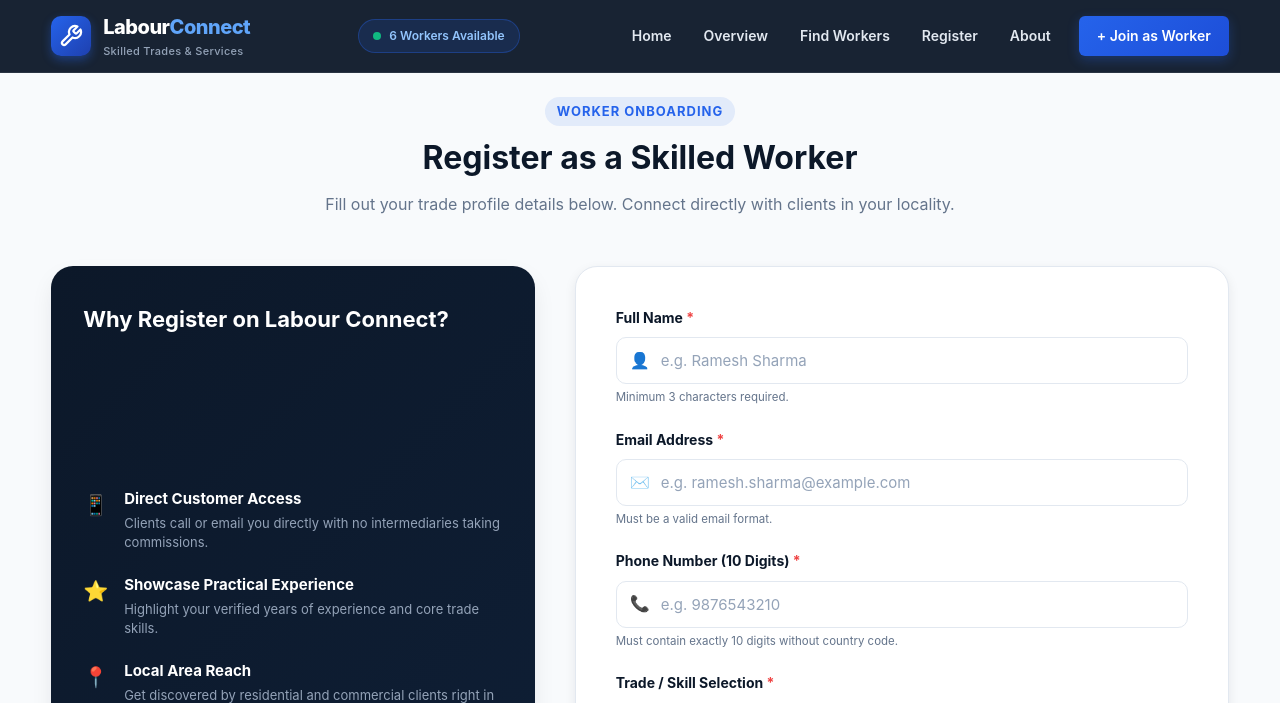
Test: Labour Connect Web Application › clears form when clicking reset button
(page scrolled)
Type "Test Worker" into the field labelled "Full Name *" at coordinates (902, 361), box [616,337,1188,384]
(page scrolled)
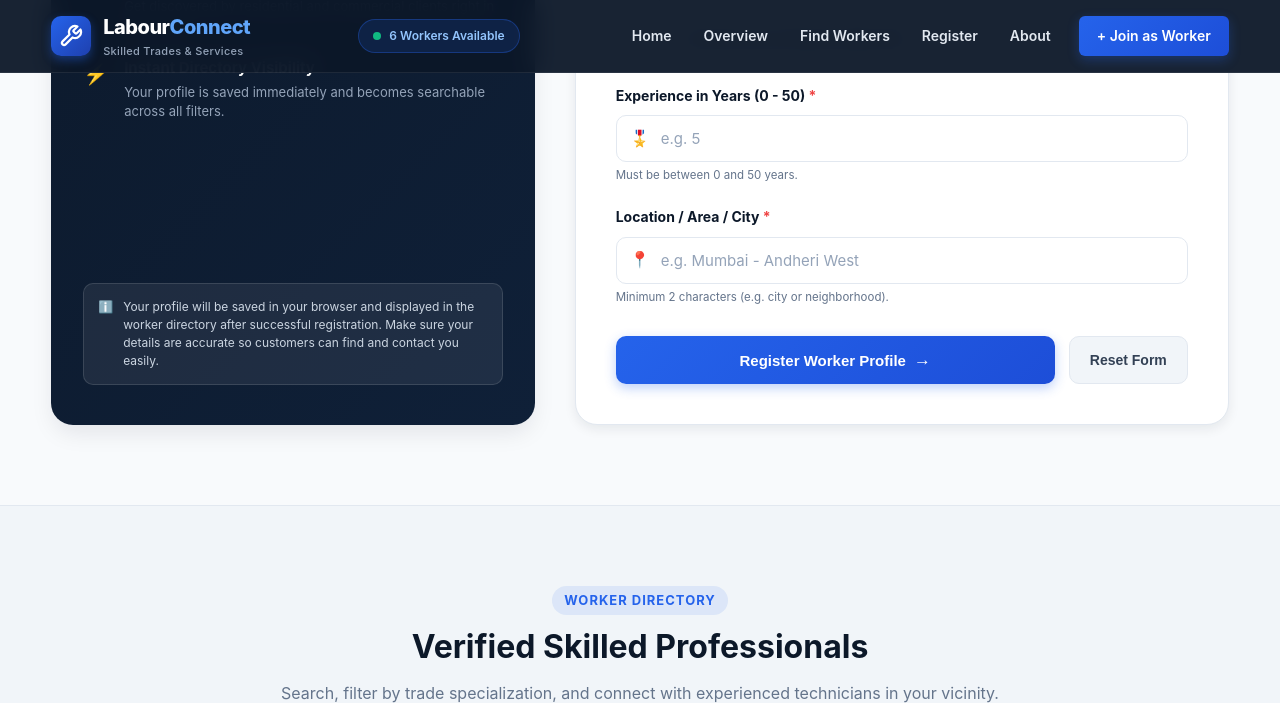
Click the button "Reset Form" at coordinates (1128, 360), box [1069,336,1188,384]
(page scrolled)
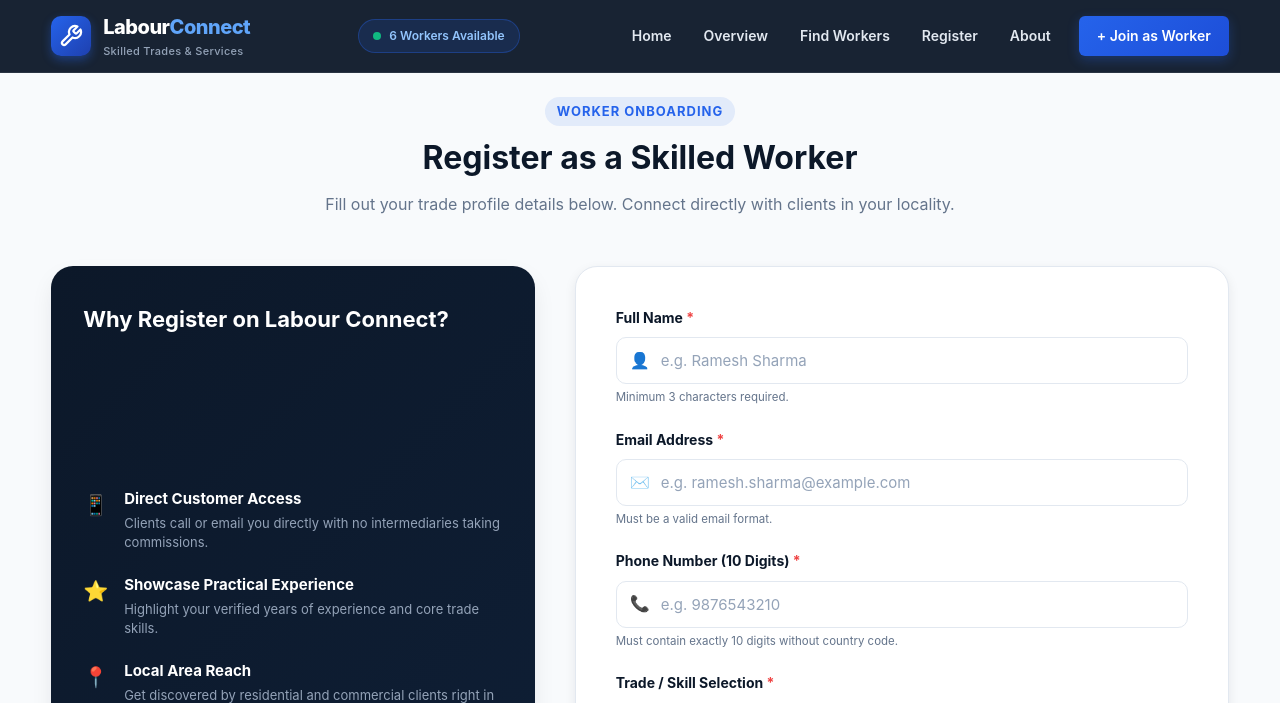
Expected: the field labelled "Full Name *" is empty, [616,337,1188,384]
